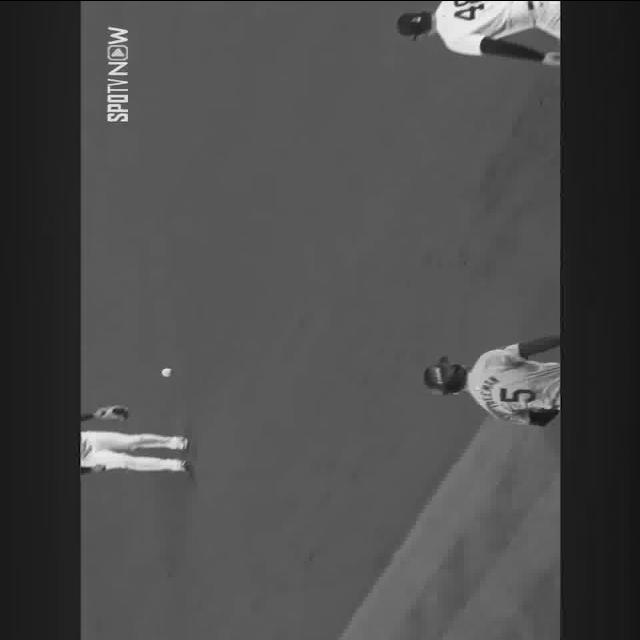baseball: (162, 368, 172, 376)
baseball_glove: (92, 404, 128, 420)
shoe: (173, 459, 192, 471), (174, 435, 190, 449)
